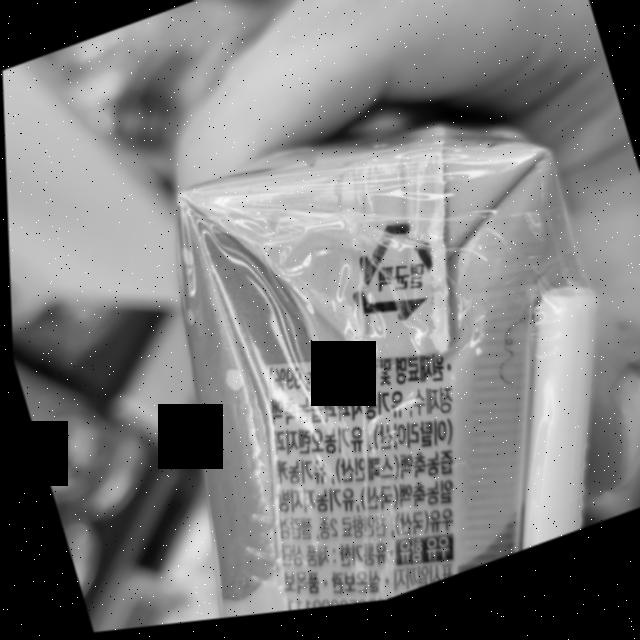SterilizedPack: (326, 213, 459, 345)
